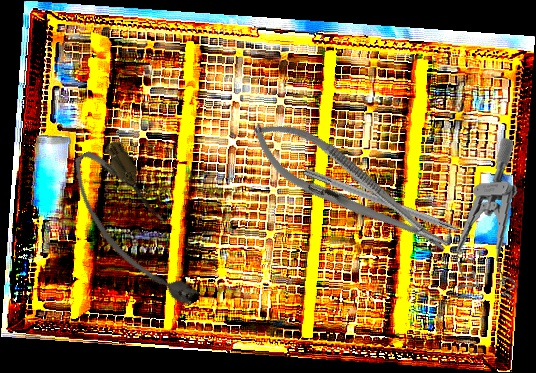Cannula: (60, 134, 212, 326)
Hook Surgical: (302, 166, 486, 246)
Needle Holder: (240, 105, 460, 272)
Speculum: (445, 137, 527, 305)
